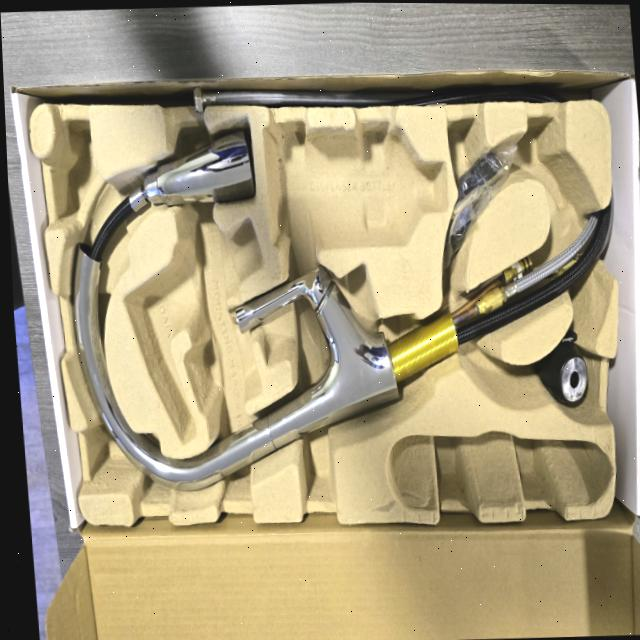1: (72, 129, 614, 490)
2m: (124, 216, 262, 441)
3m: (263, 123, 447, 240)
4m: (387, 432, 614, 506)
5: (539, 328, 588, 406)
6m: (521, 113, 582, 208)
7: (448, 144, 520, 266)
